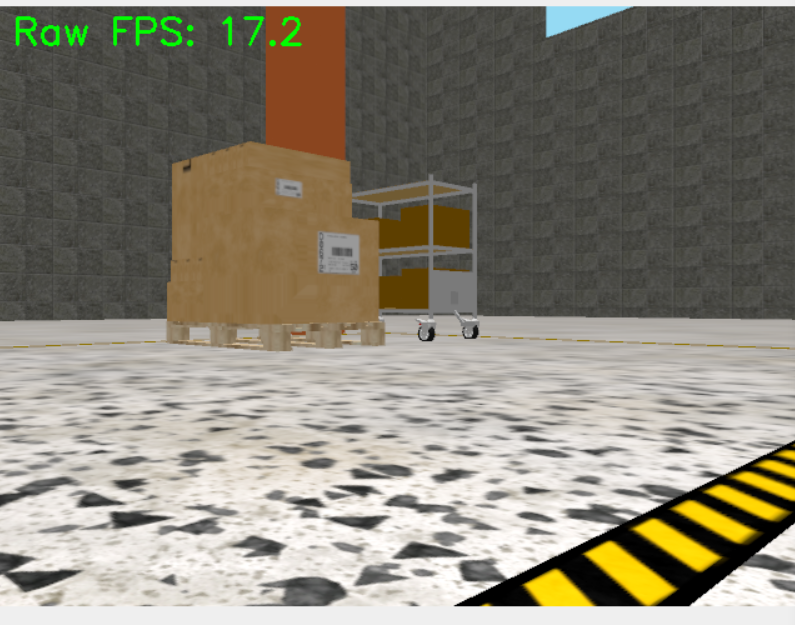barcode: (317, 230, 361, 275), (274, 176, 305, 198)
